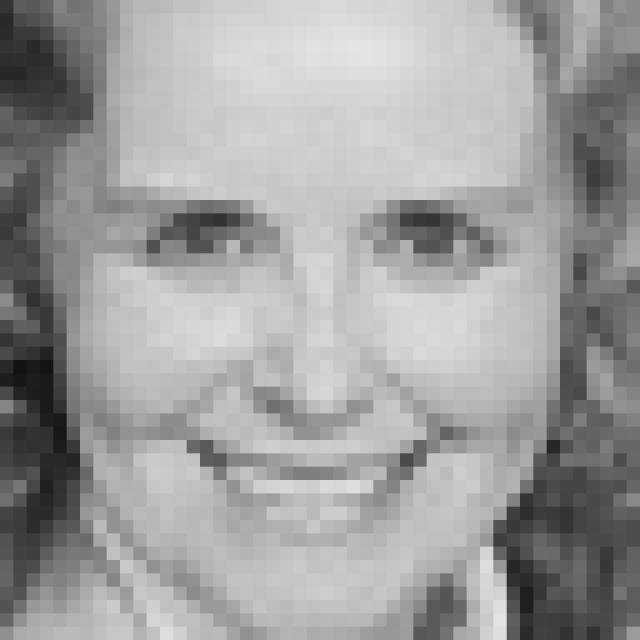happy: (111, 188, 526, 550)
